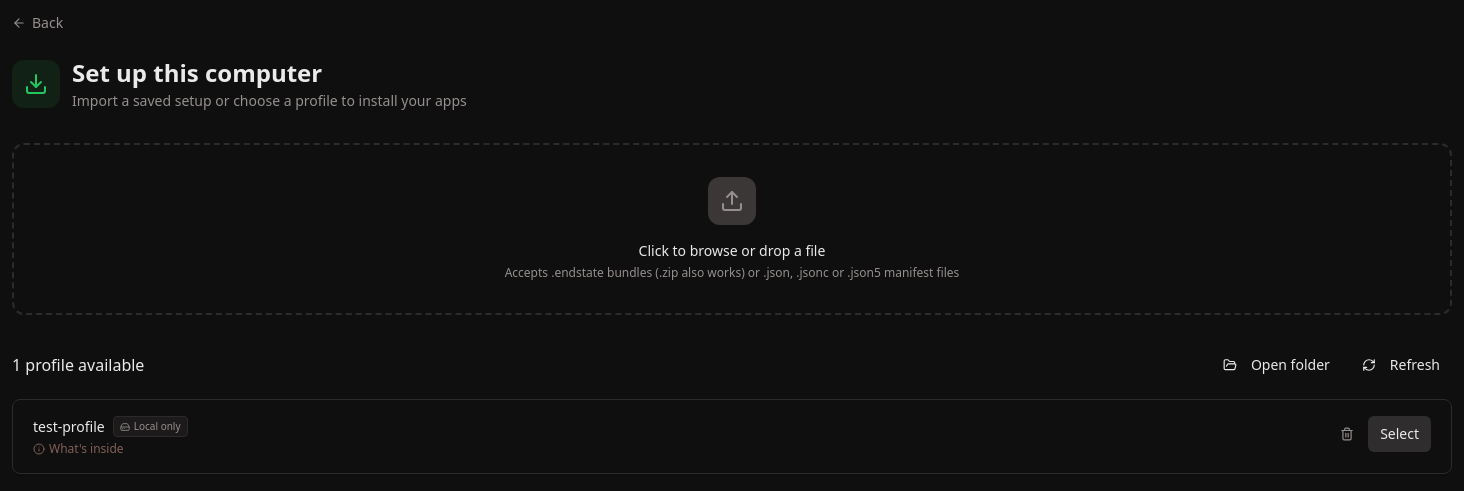
Test: SetupFlow — per-app picker › selection defaults and affordances › updates the summary counts client-side as apps are unchecked
Click the text "test-profile" at (69, 426), box [33, 416, 105, 436]
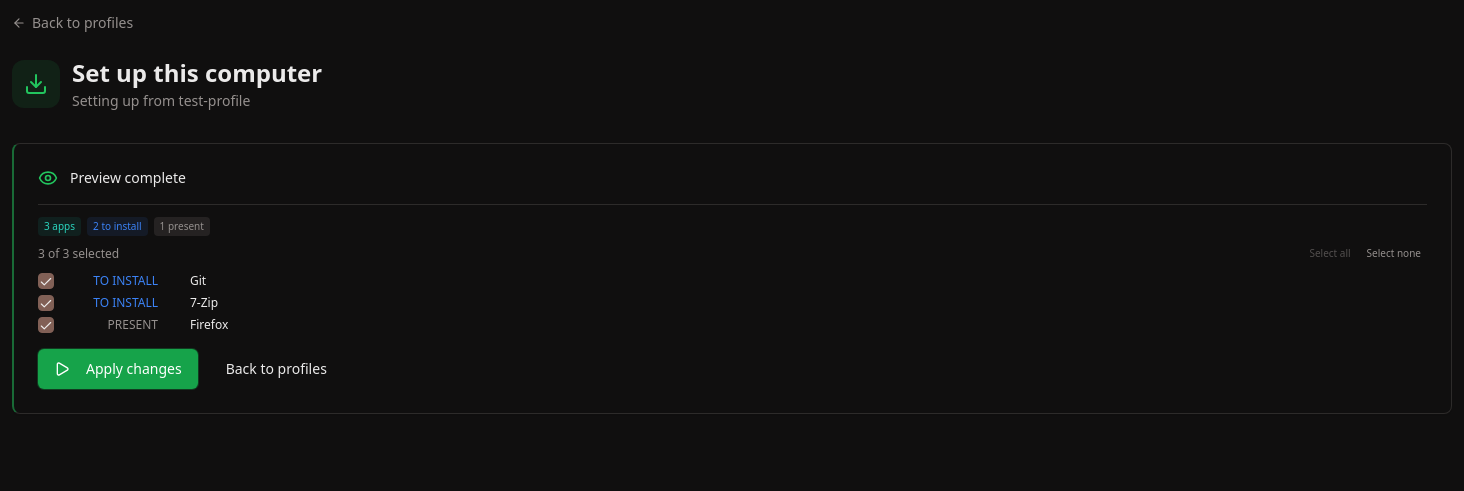
Now the button with test id "setup-flow-apply" is shown, box [38, 349, 198, 389]
Now the button "2 to install" is shown, box [87, 217, 148, 236]
Now the button "1 present" is shown, box [154, 217, 210, 236]
Click the checkbox with test id "app-picker-checkbox-git-git" at (46, 281), box [38, 273, 54, 289]
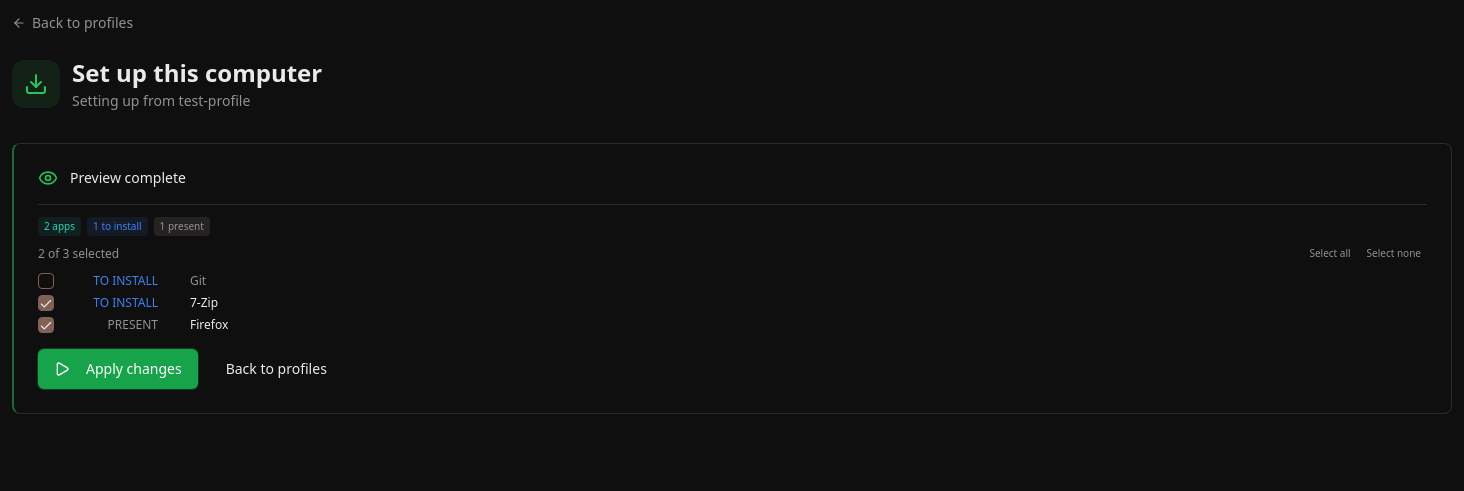
Now the button "1 present" is shown, box [154, 217, 210, 236]
Now the button "1 to install" is shown, box [87, 217, 148, 236]
Now the text with test id "app-picker-count" reads "2 of 3 selected", box [38, 246, 119, 262]
